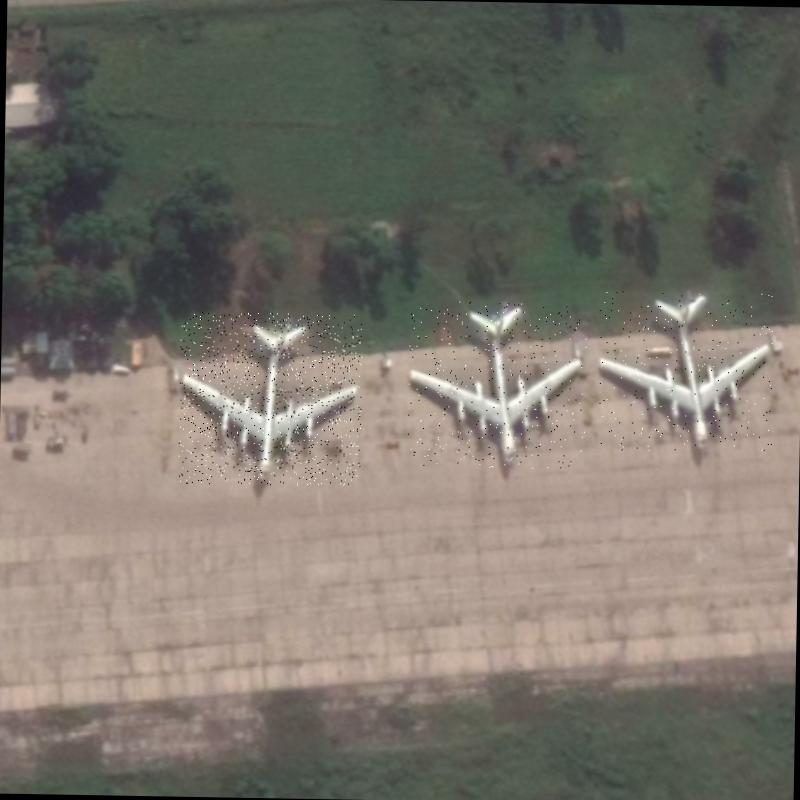A17: (178, 311, 362, 486), (407, 300, 587, 469), (596, 290, 774, 453)
